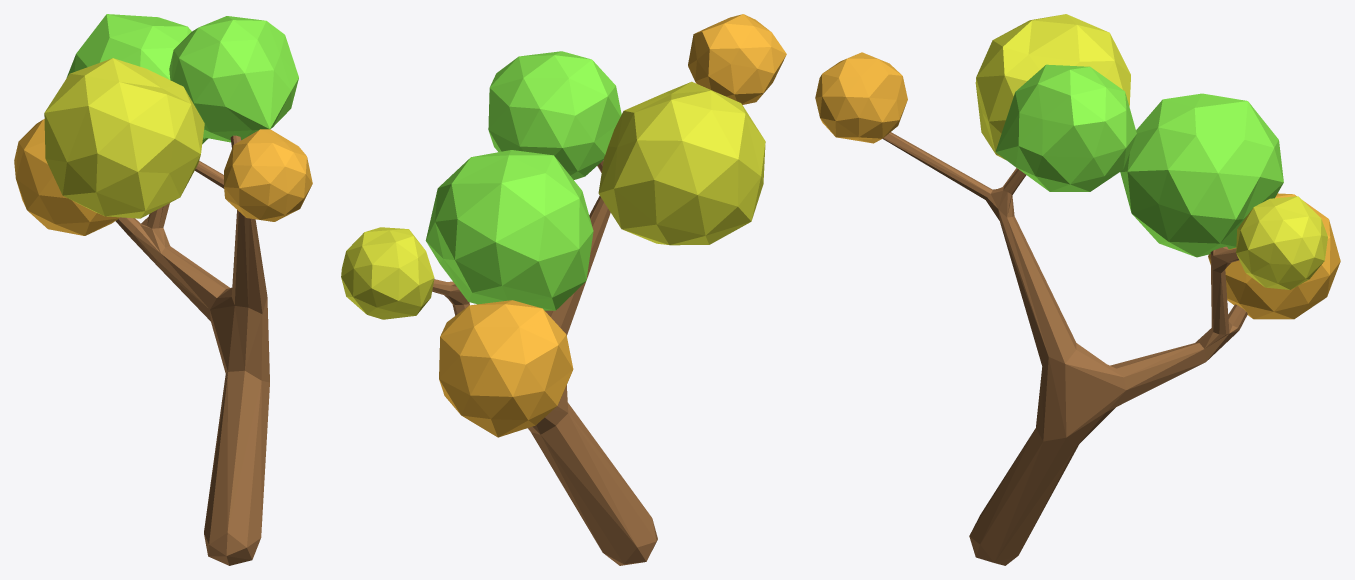
Rendered from tree.fbx.
3 views of the same model, side by side, from view 1: azimuth 30°, elevation 25°; view 2: azimuth 150°, elevation 25°; view 3: azimuth 270°, elevation 25° (orthographic). The views are drawn at different scales.
Visible parts, largest first — view 1: Cube; view 2: Cube; view 3: Cube.
Part boxes in pixels (<box>): Cube: <box>14,14,312,565</box>; Cube: <box>341,14,786,565</box>; Cube: <box>815,14,1340,565</box>.
Size of the model in its own units: 112 by 196 by 183.
1 material, 1 textured.
